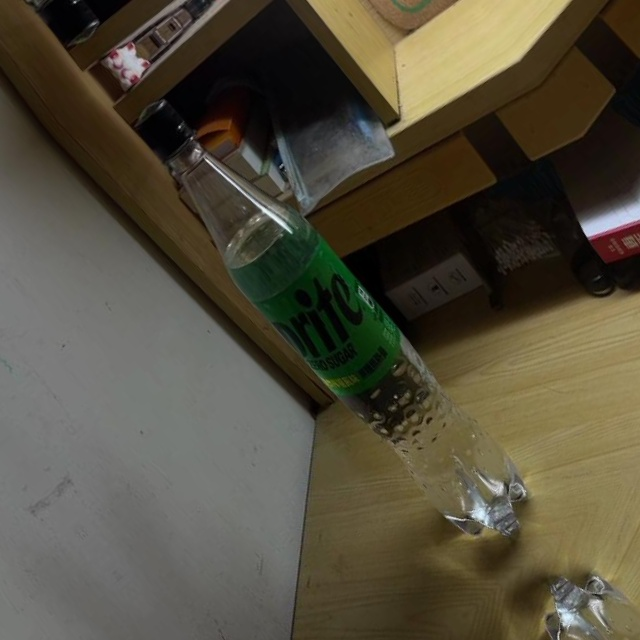Sprite: (110, 73, 550, 570)
